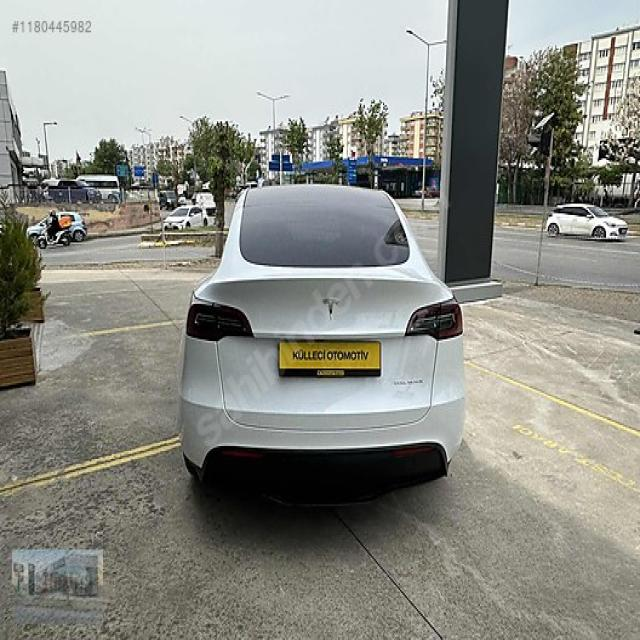tesla: (319, 295, 341, 321)
